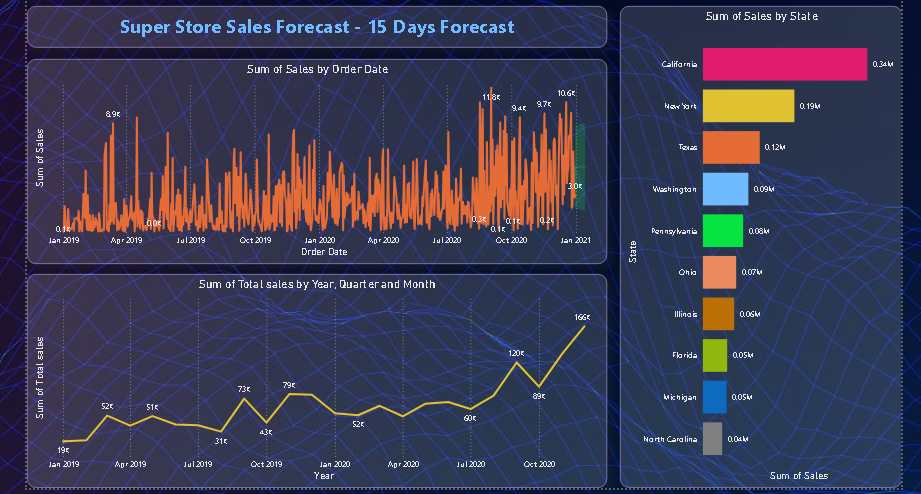

What the dashboard file says about the page in this screenshot:
{"tool":"powerbi","page":{"name":"Page 2","canvas":[1280,720],"ordinal":1},"visuals":[{"type":"lineChart","fields":{"Category":["supersalesreport.Order Date"],"Y":["Sum(supersalesreport.Sales)"]},"box":[0,92.2,848.8,300],"z":0},{"type":"lineChart","fields":{"Category":["SalesForcast.Order Date.Variation.Date Hierarchy.Year","SalesForcast.Order Date.Variation.Date Hierarchy.Quarter","SalesForcast.Order Date.Variation.Date Hierarchy.Month","SalesForcast.Order Date.Variation.Date Hierarchy.Day"],"Y":["Sum(SalesForcast.Total sales)"]},"box":[0,406.8,848.8,313.2],"z":1000},{"type":"barChart","fields":{"Y":["Sum(supersalesreport.Sales)"],"Category":["supersalesreport.State"]},"box":[867.8,14.6,412.7,705.4],"z":2000},{"type":"textbox","box":[0,14.6,848.8,61.5],"z":3000}]}

Visuals, with their boxes on the page's 1280x720 design canvas (x1, y1, x2, y2). These are canvas units, not pixel positions in the 921x494 screenshot, which may show the page scaled, cropped or inside an application window:
lineChart - supersalesreport.Order Date x Sum(supersalesreport.Sales): x1=0, y1=92, x2=849, y2=392
lineChart - SalesForcast.Order Date.Variation.Date Hierarchy.Year x SalesForcast.Order Date.Variation.Date Hierarchy.Quarter: x1=0, y1=407, x2=849, y2=720
barChart - Sum(supersalesreport.Sales) x supersalesreport.State: x1=868, y1=15, x2=1280, y2=720
textbox: x1=0, y1=15, x2=849, y2=76
